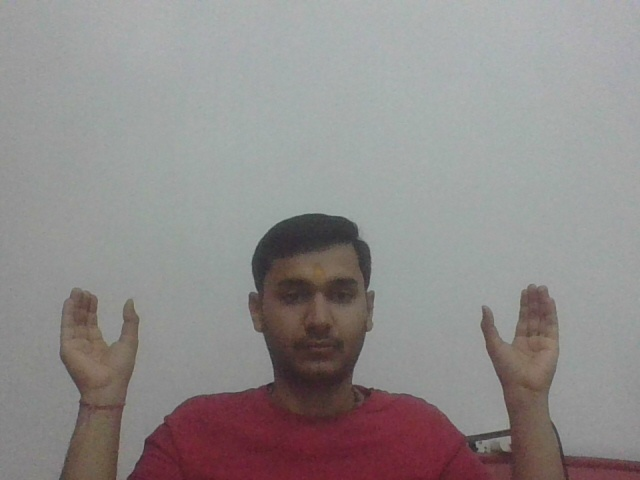U: (56, 281, 145, 396), (477, 281, 567, 394)
